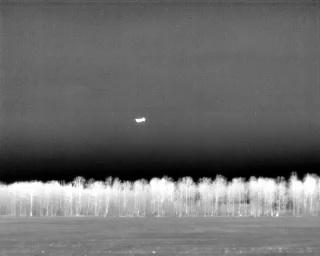DRONE: (131, 112, 151, 129)
